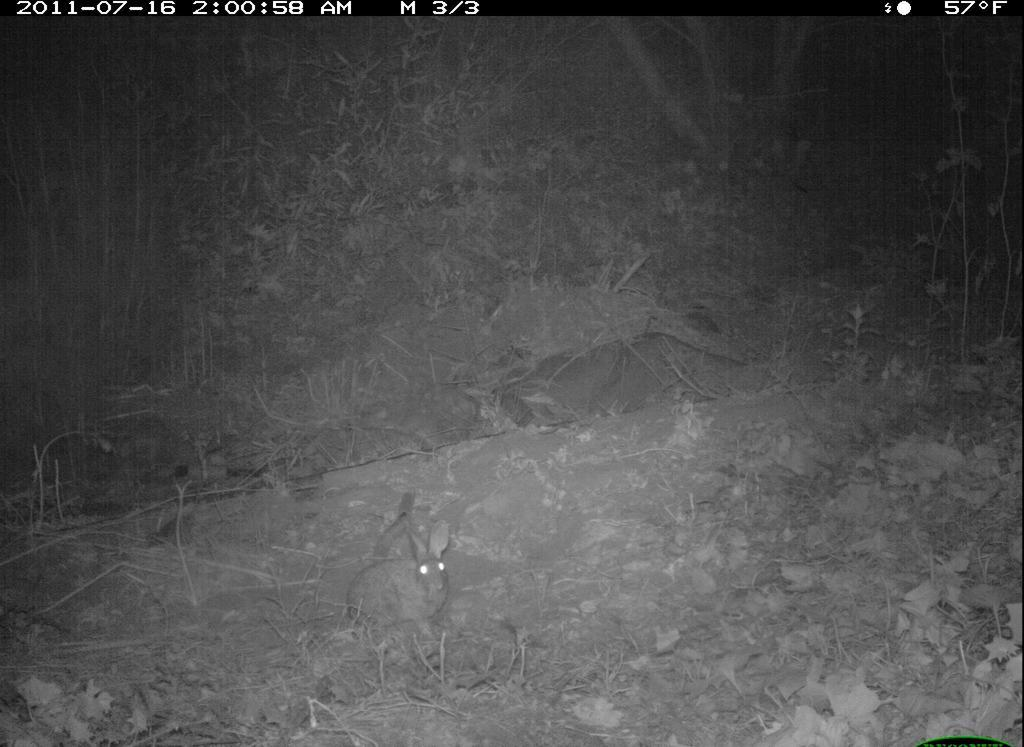rabbit: (345, 520, 461, 623)
